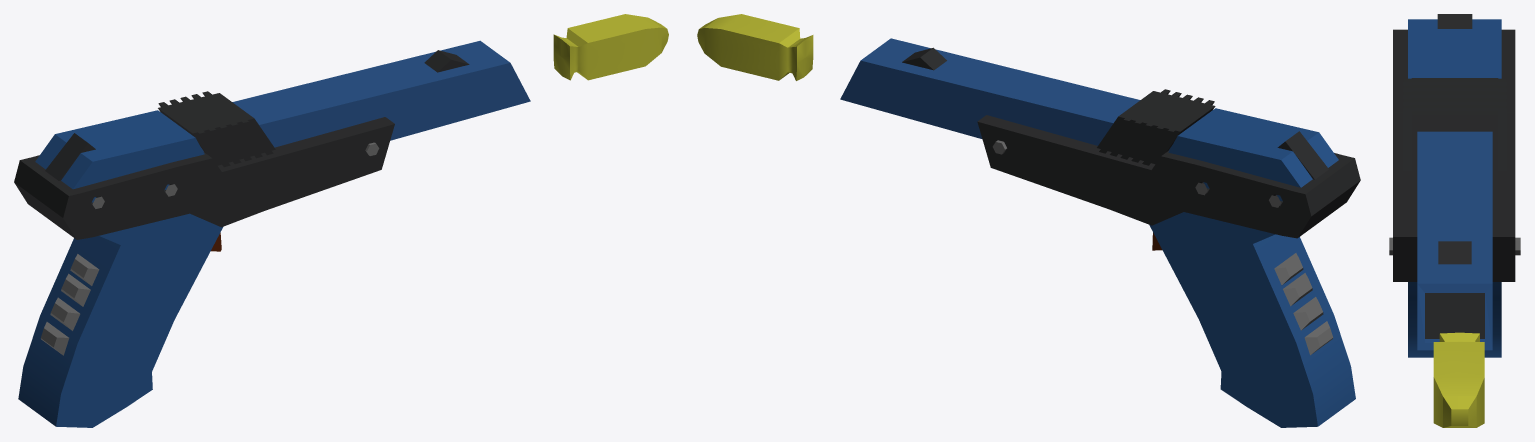
Rendered from Pistola-Bala.fbx.
The picture shows the model from 3 angles, left to right: view 1: azimuth 30°, elevation 25°; view 2: azimuth 150°, elevation 25°; view 3: azimuth 270°, elevation 25°; orthographic projection. The views are drawn at different scales.
Visible parts, largest first — view 1: polySurface16, polySurface4, polySurface8, Bala1, polySurface6, polySurface3; view 2: polySurface16, polySurface4, polySurface8, Bala1, polySurface6, polySurface3; view 3: polySurface8, polySurface4, polySurface16, Bala1, polySurface6, polySurface12, polySurface2, polySurface5, polySurface10, polySurface1, polySurface7, polySurface3 (+1 smaller).
Part boxes in pixels (x1=…): polySurface16: x1=18, y1=110, x2=222, y2=427; polySurface4: x1=14, y1=117, x2=394, y2=239; polySurface8: x1=201, y1=40, x2=530, y2=151; Bala1: x1=553, y1=14, x2=668, y2=80; polySurface6: x1=158, y1=93, x2=275, y2=165; polySurface3: x1=45, y1=133, x2=95, y2=180; polySurface16: x1=1149, y1=108, x2=1355, y2=427; polySurface4: x1=977, y1=115, x2=1360, y2=238; polySurface8: x1=840, y1=38, x2=1171, y2=150; Bala1: x1=697, y1=14, x2=813, y2=80; polySurface6: x1=1097, y1=91, x2=1215, y2=164; polySurface3: x1=1277, y1=131, x2=1328, y2=179; polySurface8: x1=1417, y1=131, x2=1492, y2=350; polySurface4: x1=1393, y1=29, x2=1515, y2=281; polySurface16: x1=1408, y1=19, x2=1501, y2=357; Bala1: x1=1433, y1=332, x2=1484, y2=427; polySurface6: x1=1411, y1=78, x2=1498, y2=173; polySurface12: x1=1403, y1=105, x2=1506, y2=170; polySurface2: x1=1438, y1=241, x2=1471, y2=264; polySurface5: x1=1403, y1=98, x2=1506, y2=105; polySurface10: x1=1403, y1=78, x2=1506, y2=85; polySurface1: x1=1403, y1=85, x2=1506, y2=91; polySurface7: x1=1403, y1=92, x2=1506, y2=98; polySurface3: x1=1437, y1=14, x2=1472, y2=28.
Bounding box in the file's own units: 12.03 × 5 × 1.75.
